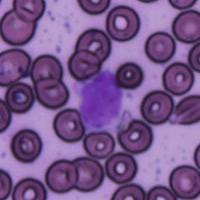M: (78, 67, 125, 133)
